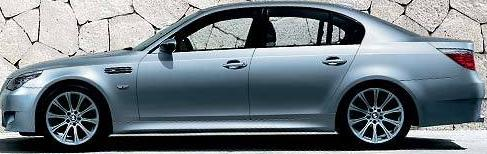backlight: (433, 43, 481, 72)
headlight: (6, 68, 47, 95)
side_glass: (148, 6, 369, 57)
